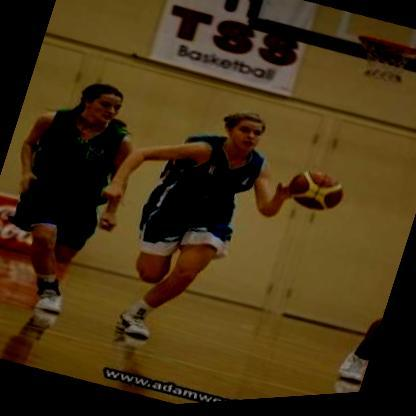basketball: (281, 162, 354, 228)
